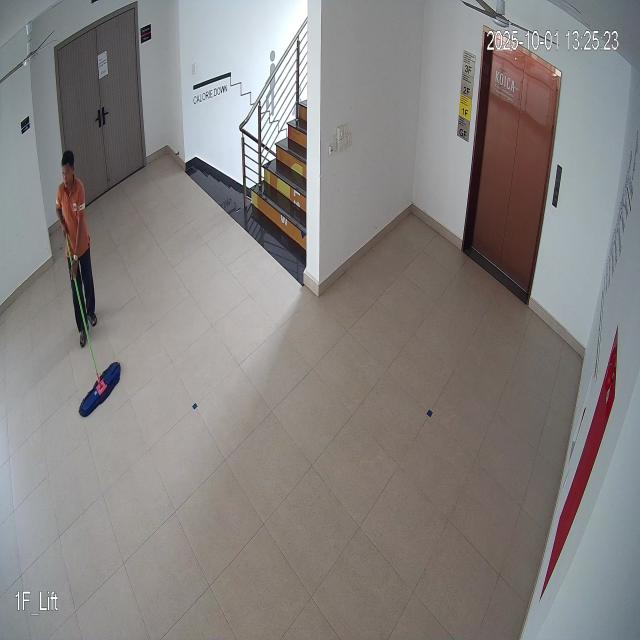face: (56, 144, 81, 193)
